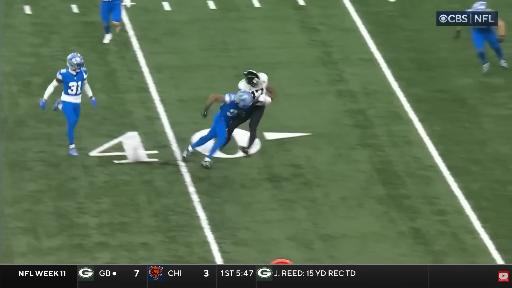Helmet: (67, 53, 84, 71), (244, 70, 261, 87), (235, 91, 253, 107)
Jersey: (56, 68, 87, 103), (218, 94, 244, 124), (238, 73, 268, 99), (466, 9, 492, 11)
Player: (40, 53, 96, 155), (183, 91, 253, 168), (222, 70, 275, 155), (471, 19, 507, 72), (100, 0, 121, 43)
